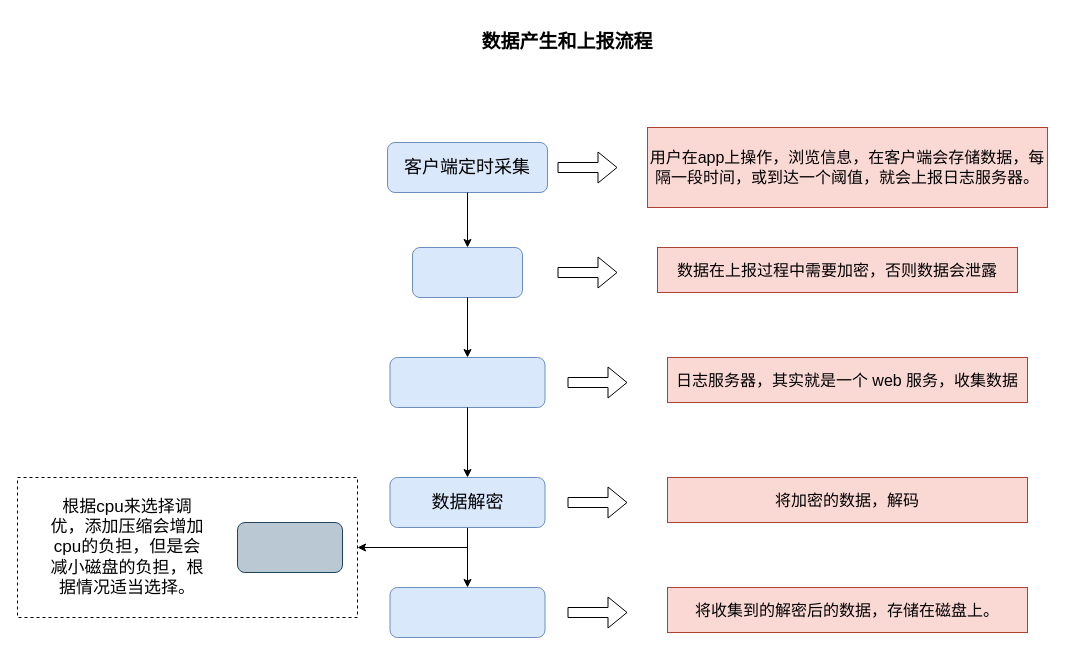
Some shapes in this 1065 by 655 pixel diagram are drawn without their labels. Here are the shapes that lost their labels. From the top down, the box of each, then its label:
(412, 246, 522, 298): 数据加密
(389, 356, 545, 408): 日志服务器
(236, 522, 342, 572): 压缩
(389, 586, 545, 638): 日志落地磁盘
